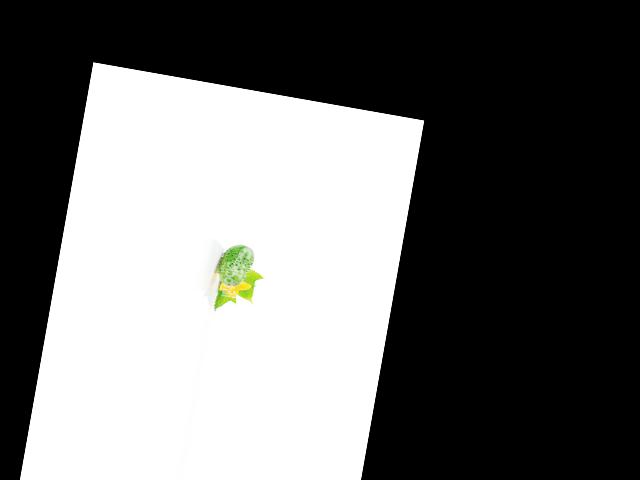cucumber: (215, 241, 255, 288)
